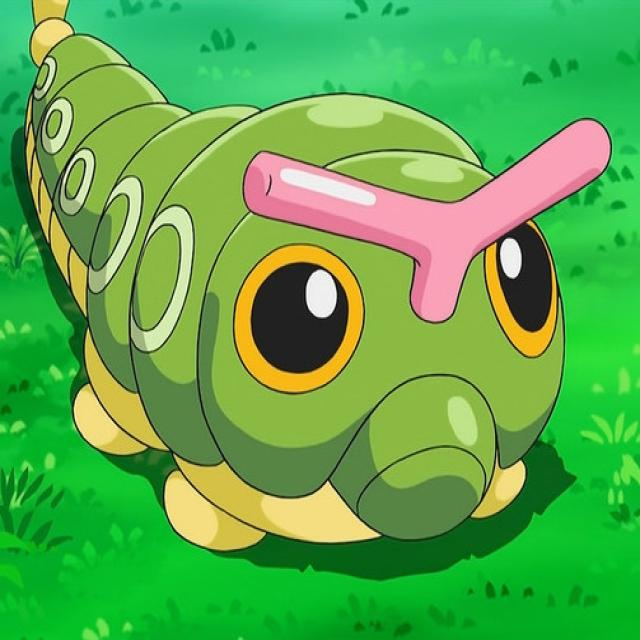Caterpie: (39, 80, 562, 542)
